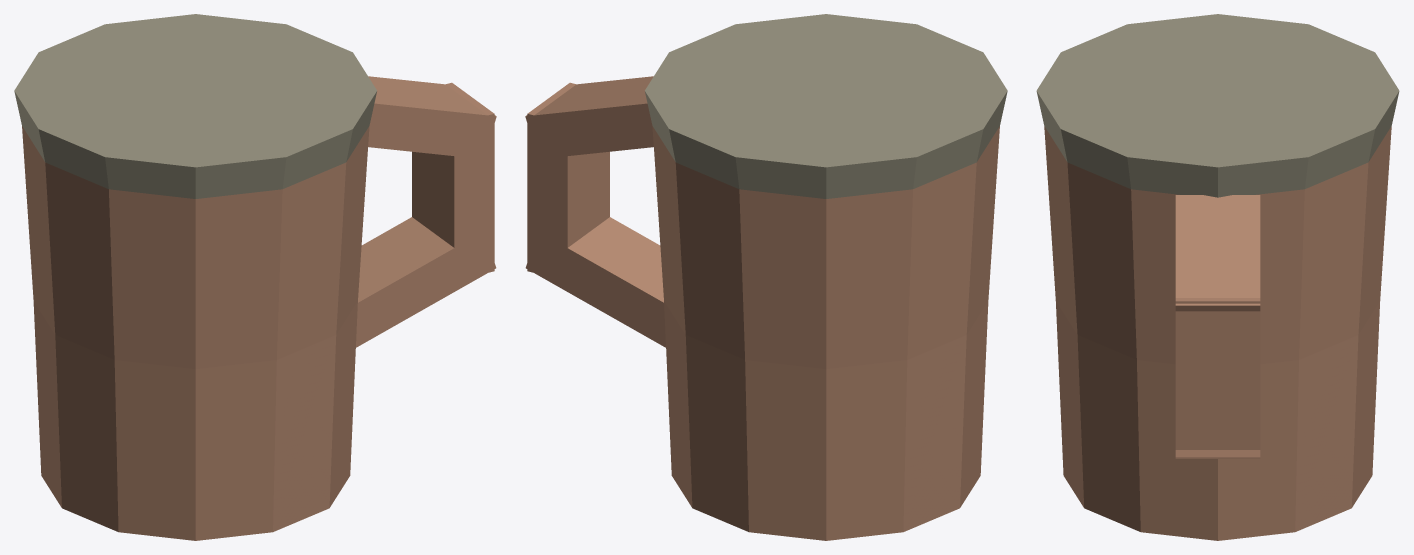
The model's file is pottery_mug.glb.
3 renders of one model, left to right at view 1: azimuth 30°, elevation 25°; view 2: azimuth 150°, elevation 25°; view 3: azimuth 270°, elevation 25°, orthographic.
Visible parts, largest first — view 1: pottery_mug; view 2: pottery_mug; view 3: pottery_mug.
Boxes of the visible parts, x1=… form: pottery_mug: x1=14, y1=14, x2=496, y2=540; pottery_mug: x1=525, y1=14, x2=1007, y2=540; pottery_mug: x1=1036, y1=14, x2=1399, y2=540.
Size of the model in its own units: 0.1306 by 0.11 by 0.094.
